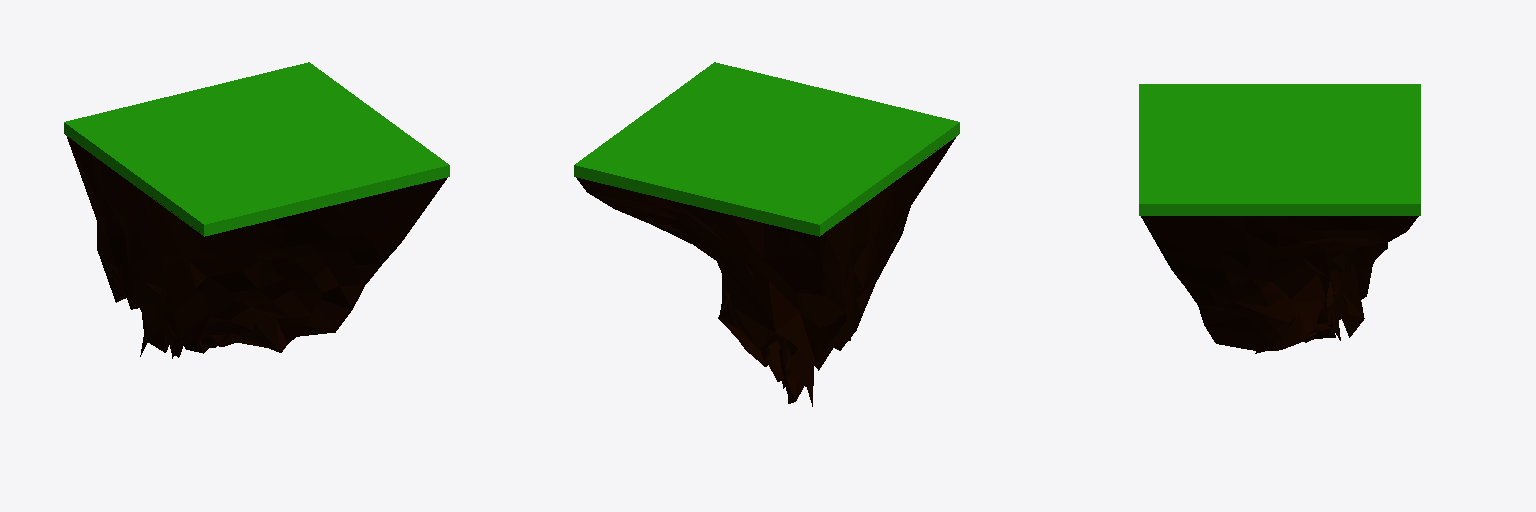
File: island.obj
The picture shows the model from 3 angles: view 1: azimuth 30°, elevation 25°; view 2: azimuth 150°, elevation 25°; view 3: azimuth 270°, elevation 25°; orthographic projection.
Visible parts, largest first — view 1: Cube_Cube.003; view 2: Cube_Cube.003; view 3: Cube_Cube.003.
Part boxes in pixels (left/top/right/bottom): Cube_Cube.003: left=64, top=62, right=449, bottom=358; Cube_Cube.003: left=574, top=62, right=959, bottom=406; Cube_Cube.003: left=1139, top=84, right=1420, bottom=353.
Size of the model in its own units: 16 by 13.88 by 15.75.